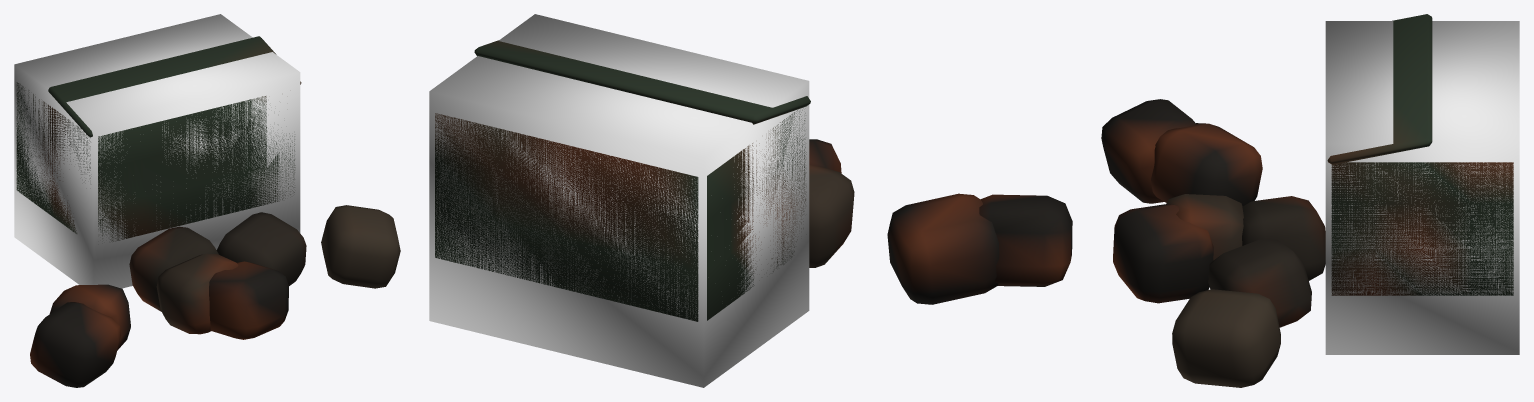
Rendered from contenedor.glb.
The picture shows the model from 3 angles, left to right: view 1: azimuth 30°, elevation 25°; view 2: azimuth 150°, elevation 25°; view 3: azimuth 270°, elevation 25°; orthographic projection. The views are drawn at different scales.
Visible parts, largest first — view 1: contenedor, contenedor-colcaja; view 2: contenedor-colcaja, contenedor; view 3: contenedor, contenedor-colcaja.
Part boxes in pixels (x1,y1,x2,y2): contenedor: [16, 36, 400, 387]; contenedor-colcaja: [14, 14, 300, 288]; contenedor-colcaja: [429, 14, 809, 387]; contenedor: [435, 40, 1072, 321]; contenedor: [1101, 14, 1513, 387]; contenedor-colcaja: [1325, 21, 1519, 354].
Size of the model in its own units: 2.84 by 1.32 by 2.16.
